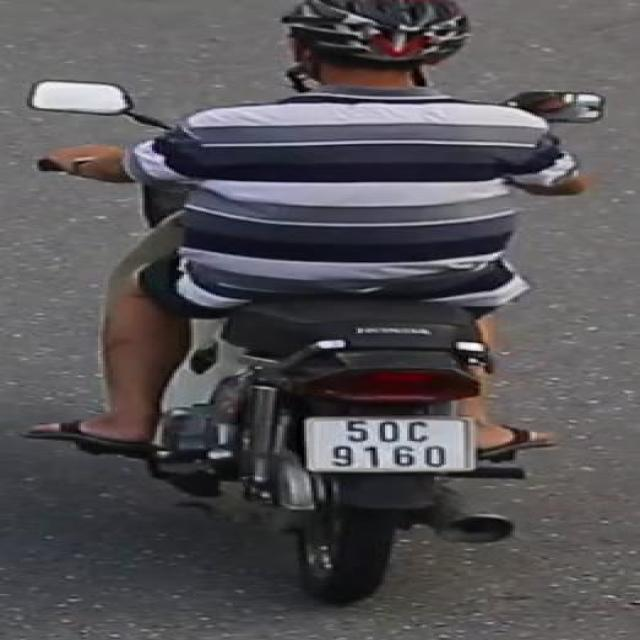LP: (298, 410, 482, 476)
helmet: (258, 0, 508, 114)
